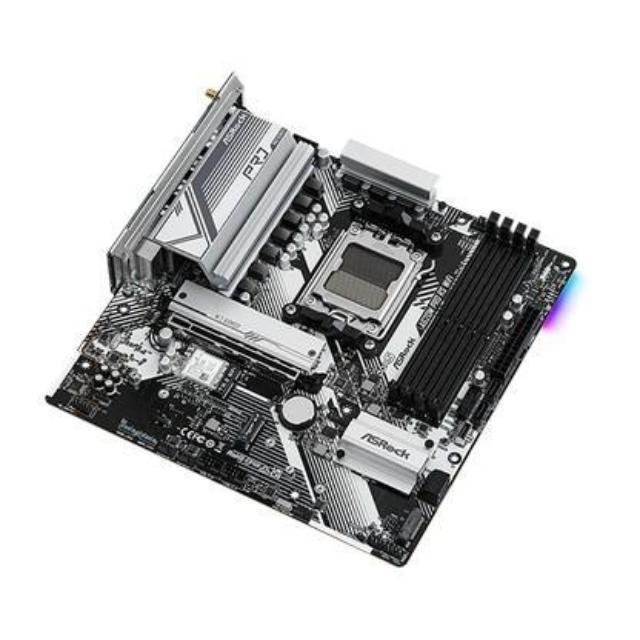Mainboard: (28, 62, 588, 574)
